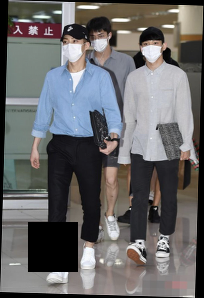with_mask: (61, 34, 85, 63), (141, 39, 163, 63), (88, 31, 110, 53)
